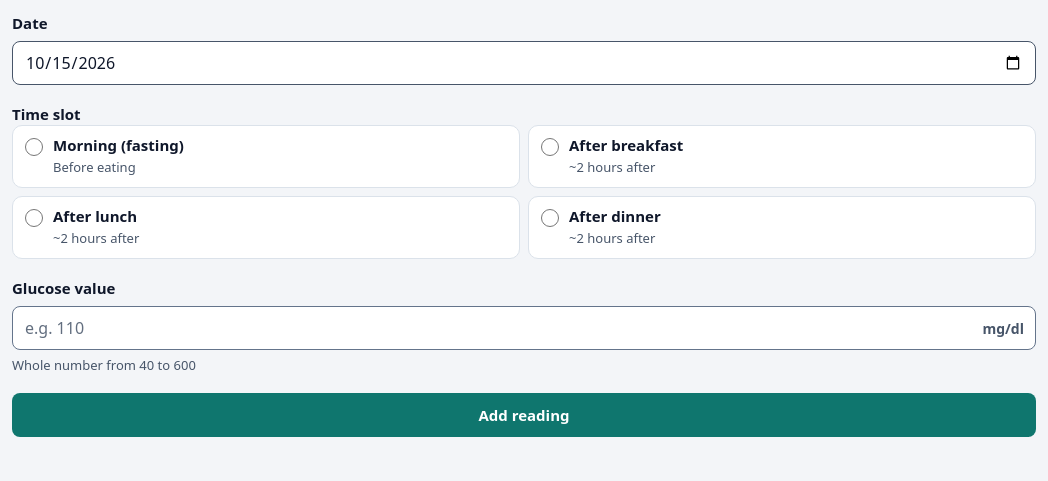
ReadingForm › asks for a time slot when none is chosen
Type "120" into the number field labelled "Glucose value" at (524, 328), box [12,306,1036,350]
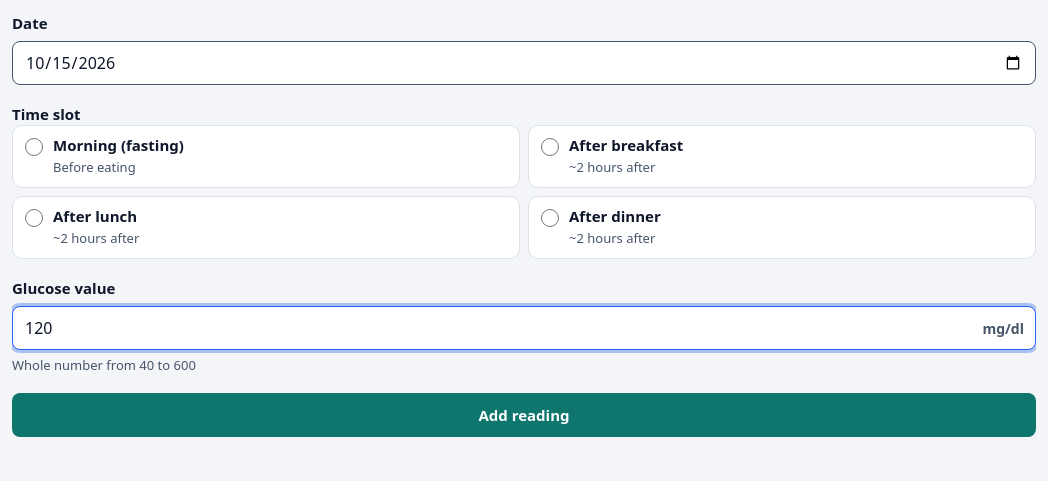
Click the button "Add reading" at (524, 415), box [12,393,1036,437]
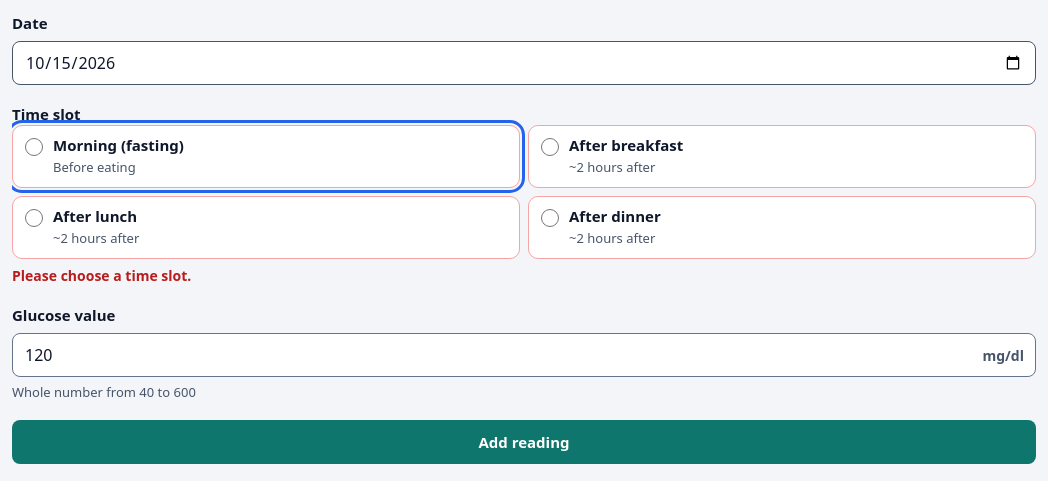
Expected: the text "Please choose a time slot." is shown, [12,266,191,285]
